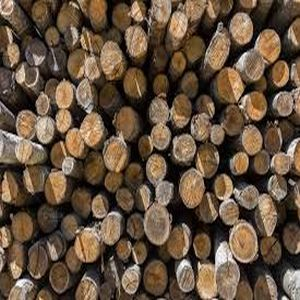log: (227, 220, 261, 265), (212, 67, 247, 105), (178, 167, 207, 210), (144, 202, 171, 247), (253, 194, 278, 237), (24, 243, 52, 281), (195, 141, 222, 180), (74, 227, 101, 265), (113, 107, 141, 143), (207, 27, 231, 68), (144, 260, 170, 297), (216, 260, 240, 300), (256, 29, 282, 65), (80, 113, 106, 149), (103, 135, 129, 171), (123, 22, 148, 59), (100, 39, 124, 77), (221, 104, 247, 139), (43, 169, 69, 204), (82, 152, 107, 187), (196, 262, 219, 300), (229, 10, 253, 45), (11, 210, 37, 242), (173, 132, 198, 165), (14, 110, 39, 142), (172, 93, 192, 133), (239, 124, 264, 156), (47, 263, 72, 295), (167, 226, 191, 259), (123, 67, 146, 101), (145, 152, 168, 186), (7, 243, 26, 284), (70, 187, 92, 222), (99, 215, 123, 247), (55, 3, 83, 30), (145, 96, 171, 125), (244, 91, 269, 121), (1, 170, 22, 205), (189, 110, 211, 143), (259, 236, 283, 266), (65, 48, 86, 82), (242, 50, 265, 81), (75, 79, 97, 111), (217, 199, 242, 227), (36, 204, 60, 233), (265, 172, 289, 201), (270, 58, 293, 88), (54, 80, 76, 111), (192, 231, 214, 262), (63, 128, 87, 156), (21, 166, 43, 196), (90, 192, 112, 222), (45, 232, 66, 263), (13, 139, 38, 165), (253, 274, 278, 300), (24, 38, 47, 66), (178, 70, 201, 98), (237, 183, 260, 211), (263, 123, 283, 155), (124, 161, 146, 190), (119, 268, 141, 297), (184, 36, 206, 64), (150, 126, 174, 151), (177, 263, 197, 293), (126, 213, 146, 243), (110, 2, 132, 29), (46, 47, 68, 74), (53, 108, 75, 135), (153, 180, 175, 207), (282, 223, 300, 255), (57, 214, 80, 239), (169, 10, 188, 40), (150, 43, 169, 73), (274, 91, 295, 118), (98, 83, 119, 110), (213, 173, 234, 200), (35, 117, 55, 145), (251, 150, 272, 176), (76, 277, 99, 300), (21, 66, 43, 89), (135, 184, 153, 212), (49, 142, 69, 167), (84, 54, 103, 80), (2, 43, 21, 69), (150, 72, 169, 98), (116, 188, 135, 214), (272, 150, 290, 177), (195, 95, 217, 117), (66, 248, 84, 274), (87, 1, 109, 22), (151, 1, 172, 23), (208, 123, 227, 147), (31, 2, 50, 25), (104, 171, 123, 194), (137, 134, 154, 159), (115, 238, 132, 263), (34, 93, 52, 116), (231, 153, 251, 173), (130, 1, 149, 22), (62, 27, 81, 48), (170, 51, 187, 74), (45, 26, 62, 49), (133, 241, 149, 265), (186, 1, 206, 20), (235, 280, 254, 300), (60, 156, 75, 174), (1, 226, 12, 248), (1, 1, 18, 15)
